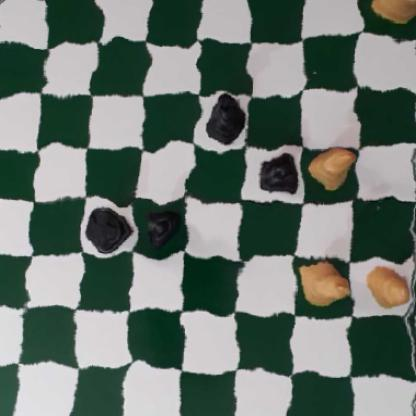black-king: (200, 95, 252, 139)
black-pawn: (253, 152, 303, 199), (139, 203, 181, 245)
black-rook: (85, 203, 130, 249)
white-bishop: (309, 148, 359, 192)
white-king: (296, 258, 354, 308)
white-pawn: (362, 267, 412, 310)
white-rook: (372, 0, 416, 25)
